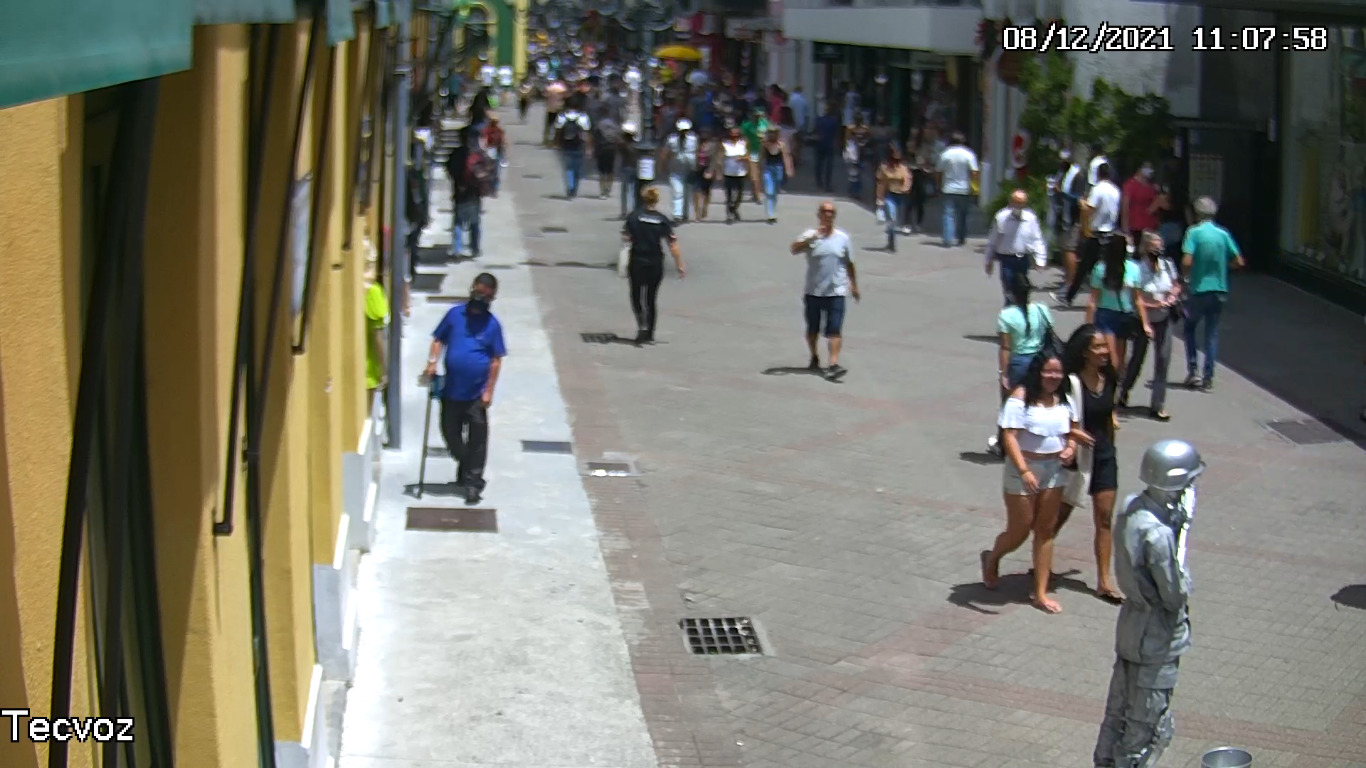pedestrian: (981, 349, 1077, 612), (1055, 321, 1125, 604), (424, 271, 505, 503), (1085, 233, 1155, 427), (1180, 194, 1244, 392), (790, 204, 862, 377), (622, 189, 687, 348), (984, 192, 1049, 340), (1136, 227, 1180, 420), (933, 135, 980, 248)
